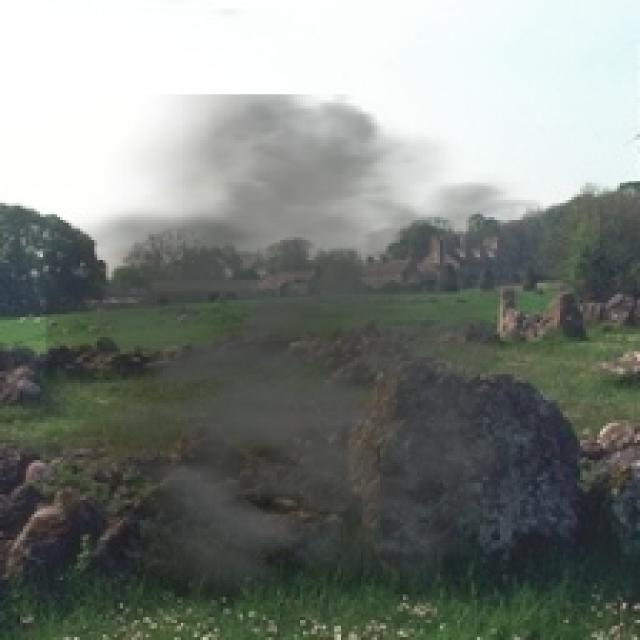smoke: (46, 95, 594, 634)
